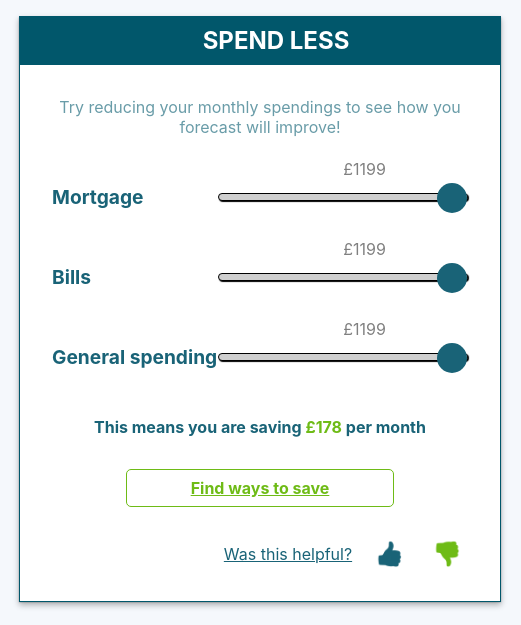
it: SavingsCalculator › should hide message after 3s
Click the button "👎" at [447, 554], box [426,539,468,569]
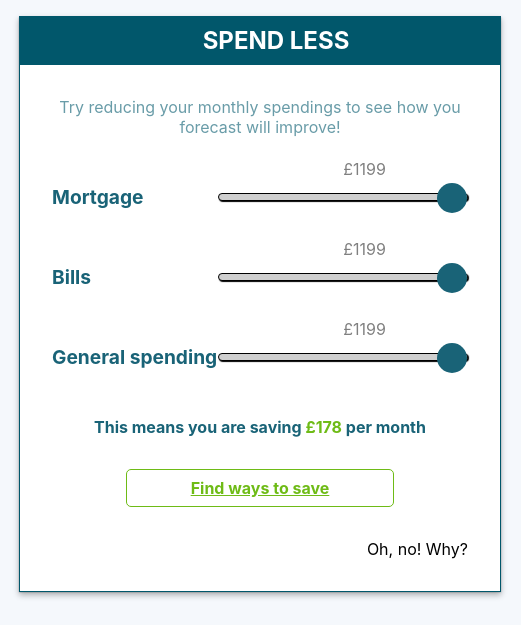
expect no buttons are shown: met
expect the text "Oh, no! Why?" is shown: met, box [367,539,468,559]
